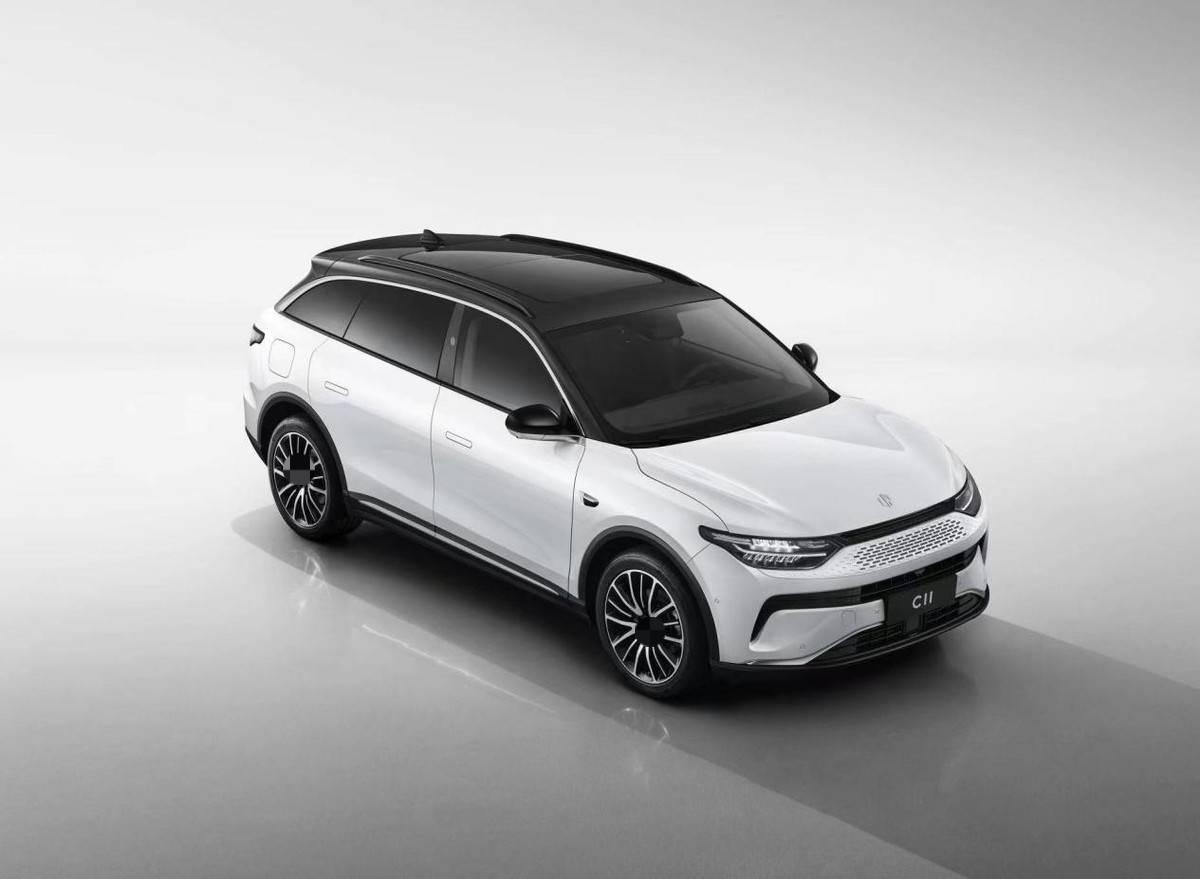LEAPMOTOR: (876, 493, 895, 509)
